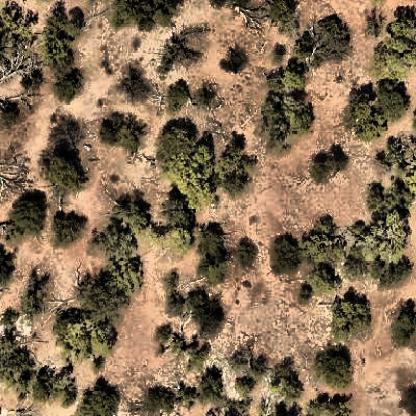tree-top: (257, 87, 314, 148), (355, 205, 407, 269), (104, 80, 157, 134), (33, 11, 81, 70), (176, 144, 218, 210), (268, 226, 327, 268), (327, 293, 374, 343), (306, 12, 357, 58), (43, 149, 91, 196), (50, 302, 98, 349), (92, 213, 138, 260), (114, 70, 162, 115), (1, 345, 41, 399), (298, 221, 346, 263), (346, 83, 385, 133), (183, 291, 227, 334), (76, 281, 121, 323), (155, 119, 200, 160), (98, 112, 146, 150), (25, 367, 73, 405), (312, 344, 354, 387), (110, 0, 173, 28), (104, 255, 147, 296), (47, 112, 88, 155), (371, 79, 415, 119), (265, 359, 305, 403), (9, 191, 50, 233), (217, 154, 254, 198), (79, 380, 124, 416), (371, 44, 416, 80), (377, 133, 416, 174), (0, 3, 34, 50), (154, 192, 193, 232), (50, 209, 88, 246), (310, 147, 349, 180), (268, 232, 302, 269), (163, 220, 199, 254), (83, 323, 117, 359), (195, 222, 227, 258), (304, 392, 352, 416), (142, 383, 177, 415), (306, 264, 340, 296), (273, 63, 308, 94), (388, 6, 416, 44), (54, 68, 87, 100), (165, 34, 198, 66), (391, 305, 416, 345), (162, 272, 184, 317), (17, 291, 47, 321), (382, 257, 414, 285), (266, 0, 298, 27), (197, 366, 224, 398), (387, 177, 414, 208), (168, 78, 194, 108), (232, 237, 259, 265), (185, 341, 211, 370), (190, 81, 216, 109), (201, 259, 226, 287), (20, 66, 44, 94), (364, 183, 387, 212), (0, 249, 18, 286), (342, 256, 366, 283), (1, 100, 22, 126), (139, 222, 162, 245), (399, 383, 416, 412), (236, 371, 256, 394), (0, 305, 15, 327)
